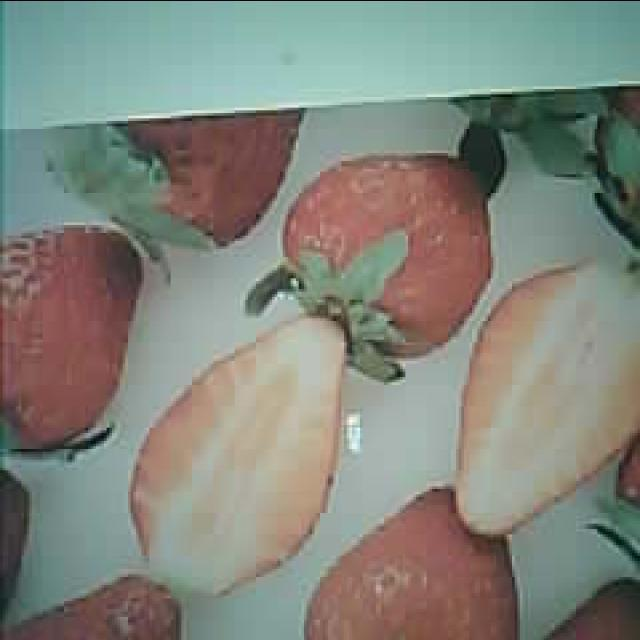ripe: (286, 148, 489, 348), (0, 223, 137, 451)
